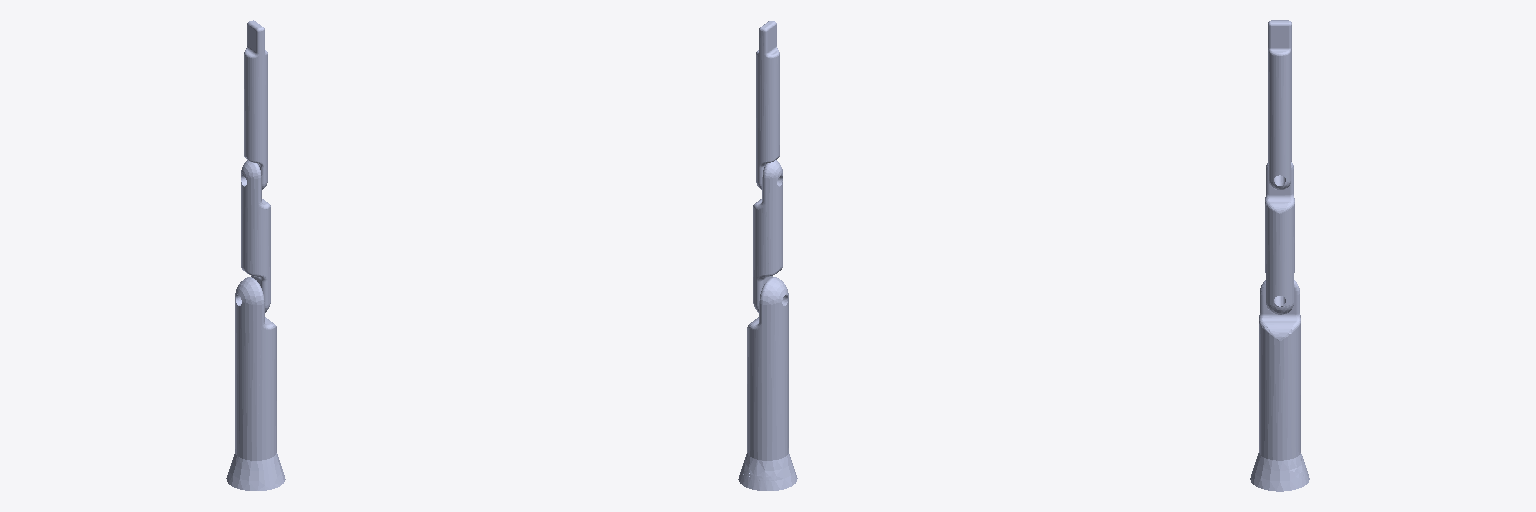
The robot description file, URDF, robot "robot_test":
<?xml version="1.0"?>
<robot name="robot_test">

  <link name="base_link">
    <visual>
      <origin rpy="1.571 0 3.142" xyz="0 0 0"/>
      <geometry>
        <mesh filename="package://urdf_test/meshes/base_link.dae"/>
      </geometry>
    </visual>
  </link>

  <link name="link_2">
    <visual>
      <origin rpy="1.571 0 0" xyz="0 0 0"/>
      <geometry>
        <mesh filename="package://urdf_test/meshes/link_2.dae"/>
      </geometry>
    </visual>
  </link>

  <link name="link_3">
    <visual>
      <origin rpy="-1.571 3.142 0" xyz="0 0 0"/>
      <geometry>
        <mesh filename="package://urdf_test/meshes/link_3.dae"/>
      </geometry>
    </visual>
  </link>

  <link name="link_4">
    <visual>
      <origin rpy="-1.571 3.142 0" xyz="0 0 0"/>
      <geometry>
        <mesh filename="package://urdf_test/meshes/link_4.dae"/>
      </geometry>
    </visual>
  </link>

  <joint name="joint_1" type="revolute">
    <parent link="base_link"/>
    <child link="link_2"/>
    <limit effort="0" lower="-1.571" upper="1.571" velocity="0"/>
    <axis xyz="0 0 1"/>
    <origin xyz="0 0 0.05"/>
  </joint>

  <joint name="joint_2" type="revolute">
    <parent link="link_2"/>
    <child link="link_3"/>
    <limit effort="0" lower="-1.571" upper="1.571" velocity="0"/>
    <axis xyz="1 0 0"/>
    <origin xyz="0 0 0.29"/>
  </joint>

  <joint name="joint_3" type="revolute">
    <parent link="link_3"/>
    <child link="link_4"/>
    <limit effort="0" lower="-1.571" upper="1.571" velocity="0"/>
    <axis xyz="1 0 0"/>
    <origin xyz="0 0 0.22"/>
  </joint>

</robot>

--- Render facts (derived) ---
Views: 3 orthographic renders of the robot side by side, from view 1: azimuth 30°, elevation 25°; view 2: azimuth 150°, elevation 25°; view 3: azimuth 270°, elevation 25°.
Model robot_test with 4 links and 3 joints (3 revolute), rooted at base_link, posed all joints at 0.
Visible links, largest first — view 1: link_2, link_4, link_3, base_link; view 2: link_2, link_4, link_3, base_link; view 3: link_2, link_4, link_3, base_link.
Link boxes in pixels (x1=…): link_2: x1=235, y1=277, x2=276, y2=460; link_4: x1=244, y1=20, x2=267, y2=189; link_3: x1=241, y1=160, x2=270, y2=312; base_link: x1=226, y1=453, x2=285, y2=490; link_2: x1=747, y1=277, x2=788, y2=460; link_4: x1=756, y1=21, x2=779, y2=189; link_3: x1=753, y1=160, x2=782, y2=312; base_link: x1=738, y1=453, x2=797, y2=490; link_2: x1=1259, y1=280, x2=1300, y2=460; link_4: x1=1268, y1=20, x2=1291, y2=189; link_3: x1=1265, y1=162, x2=1294, y2=314; base_link: x1=1250, y1=453, x2=1309, y2=491.
Bounding box of the posed robot: 0.0993 × 0.1 × 0.845 m (x, y, z).
Meshes: 4 distinct files referenced, 4 mesh visuals loaded (4 Collada DAE).